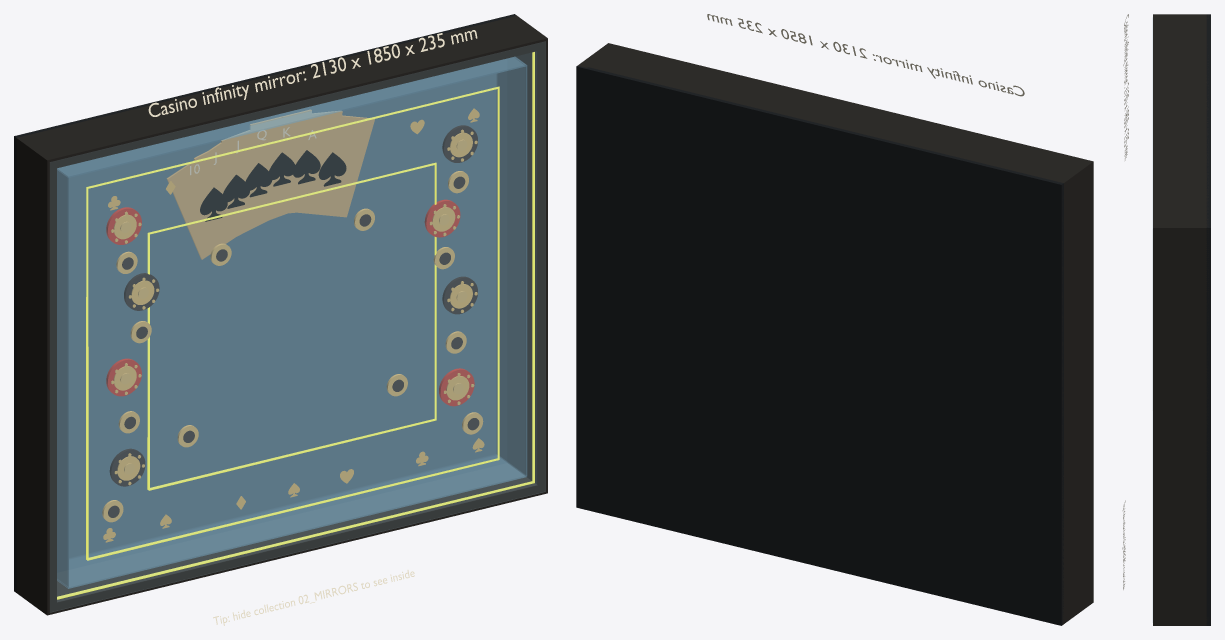
File: casino_mirror_constructor_model.glb
3 views of the same model, side by side, from view 1: azimuth 30°, elevation 25°; view 2: azimuth 150°, elevation 25°; view 3: azimuth 270°, elevation 25° (orthographic). The views are drawn at different scales.
Visible parts, largest first — view 1: front transparent one-way mirror 2110x1830, back structural panel 2130x1850, rear mirror 1950x1670, top structural side depth 235, left structural side depth 235, bottom structural side depth 235, right structural side depth 235, bottom depth mirror 1950x235, right depth mirror 1670x235, top depth mirror 1950x235, left depth mirror 1670x235, LED B inner contour approx 6.1m (+10 smaller); view 2: back structural panel 2130x1850, top structural side depth 235, left structural side depth 235, label_title; view 3: right structural side depth 235, top structural side depth 235, back structural panel 2130x1850, front transparent one-way mirror 2110x1830, bottom structural side depth 235, label_title, left structural side depth 235, label_hide_front.
Boxes of the visible parts, <box> form: front transparent one-way mirror 2110x1830: <box>50,41,545,612</box>; back structural panel 2130x1850: <box>14,14,516,592</box>; rear mirror 1950x1670: <box>69,74,496,558</box>; top structural side depth 235: <box>15,18,545,170</box>; left structural side depth 235: <box>16,135,56,614</box>; bottom structural side depth 235: <box>15,463,547,615</box>; right structural side depth 235: <box>507,15,547,494</box>; bottom depth mirror 1950x235: <box>57,455,526,588</box>; right depth mirror 1670x235: <box>497,59,527,476</box>; top depth mirror 1950x235: <box>57,57,526,177</box>; left depth mirror 1670x235: <box>57,169,68,587</box>; LED B inner contour approx 6.1m: <box>86,86,499,560</box>; back structural panel 2130x1850: <box>576,65,1063,625</box>; top structural side depth 235: <box>588,45,1093,192</box>; left structural side depth 235: <box>1054,159,1093,622</box>; label_title: <box>707,14,1024,96</box>; right structural side depth 235: <box>1153,223,1208,625</box>; top structural side depth 235: <box>1153,18,1208,236</box>; back structural panel 2130x1850: <box>1206,14,1210,625</box>; front transparent one-way mirror 2110x1830: <box>1152,18,1152,622</box>; bottom structural side depth 235: <box>1153,617,1208,625</box>; label_title: <box>1123,14,1128,160</box>; left structural side depth 235: <box>1153,14,1208,18</box>; label_hide_front: <box>1122,500,1125,589</box>.
Size of the model in its own units: 2.13 by 2.18 by 0.3747.
